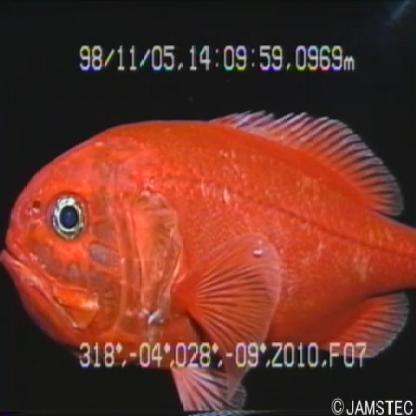Bio: (1, 104, 412, 416)
